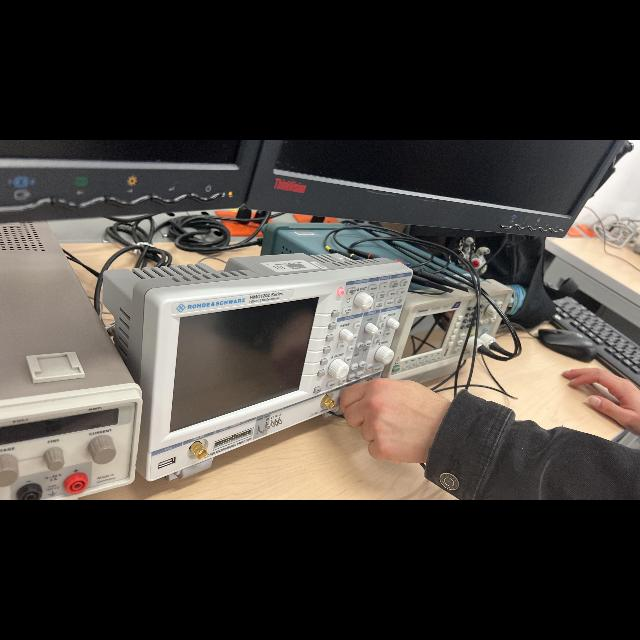Digital-Oscilloscope: (103, 253, 411, 480)
